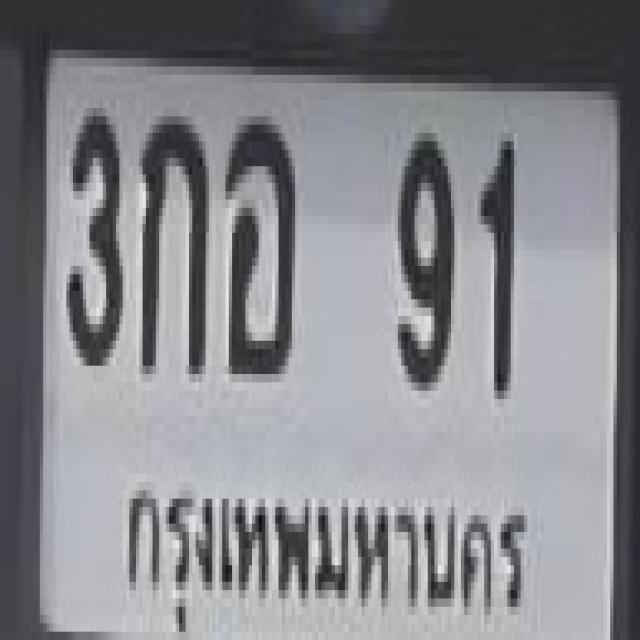1: (478, 133, 510, 391)
3: (63, 100, 119, 357)
9: (395, 125, 451, 382)
A01: (139, 108, 206, 366)
A43: (222, 108, 292, 366)
BKK: (118, 472, 525, 640)
